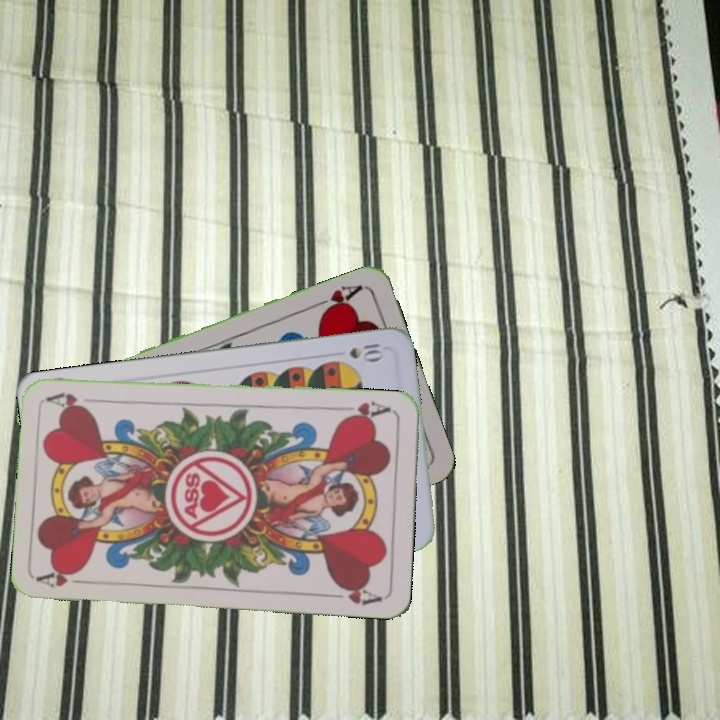HA: (309, 281, 365, 317), (35, 564, 95, 590), (336, 397, 393, 423)
S10: (345, 339, 386, 363)
